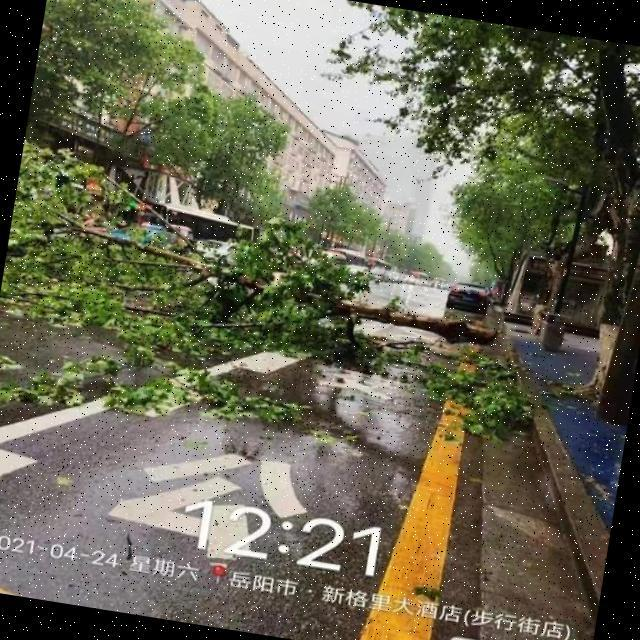fallen_object: (0, 146, 518, 381)
